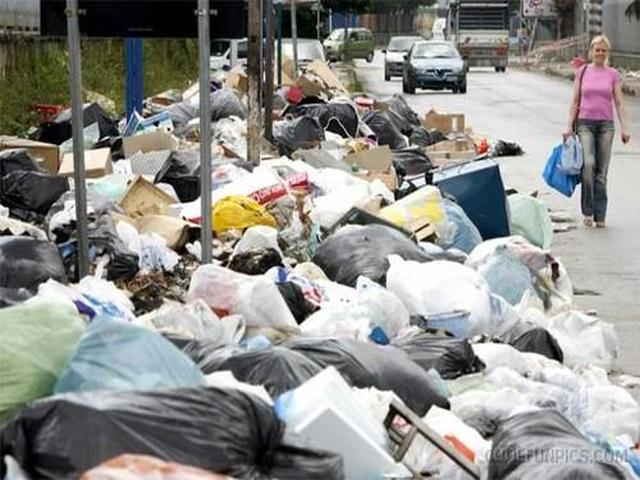garbage: (29, 289, 573, 436), (290, 103, 423, 281), (99, 126, 188, 272)
